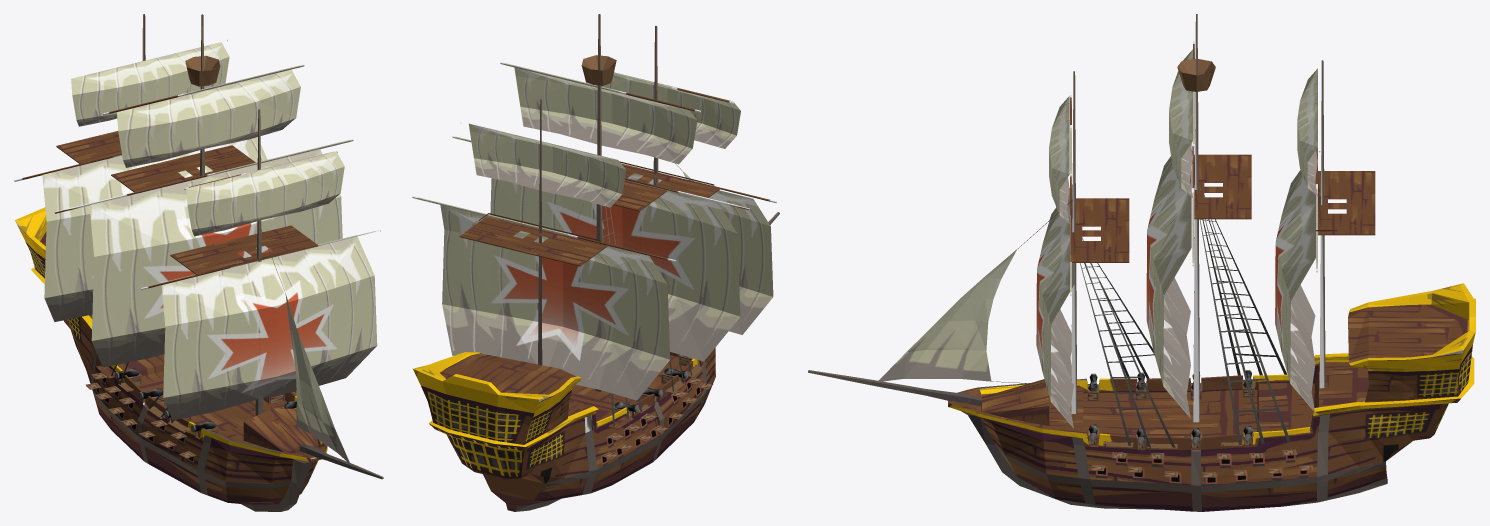
Rendered from galleone_06.01.fbx.
3 views of the same model, side by side, from view 1: azimuth 30°, elevation 25°; view 2: azimuth 150°, elevation 25°; view 3: azimuth 270°, elevation 25° (orthographic). The views are drawn at different scales.
Parts seen in each view (by area): view 1: AgeOfSails_Galleon_High_Sail, AgeOfSails_Galleon_High_1; view 2: AgeOfSails_Galleon_High_Sail, AgeOfSails_Galleon_High_1; view 3: AgeOfSails_Galleon_High_1, AgeOfSails_Galleon_High_Sail.
Part boxes in pixels (left/top/right/bottom): AgeOfSails_Galleon_High_Sail: left=42, top=42, right=377, bottom=463; AgeOfSails_Galleon_High_1: left=14, top=14, right=383, bottom=511; AgeOfSails_Galleon_High_Sail: left=440, top=67, right=773, bottom=400; AgeOfSails_Galleon_High_1: left=412, top=14, right=779, bottom=511; AgeOfSails_Galleon_High_1: left=808, top=14, right=1475, bottom=511; AgeOfSails_Galleon_High_Sail: left=878, top=49, right=1317, bottom=428.
Size of the model in its own units: 5020 by 7364 by 9039.
3 materials, 3 textured.
